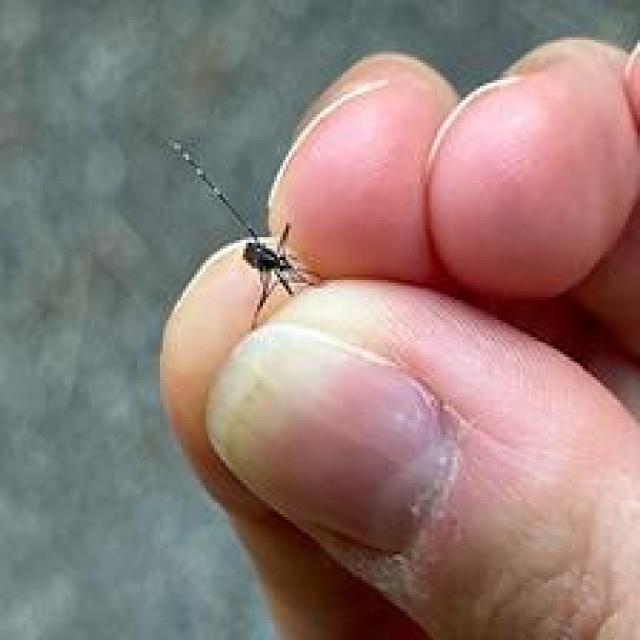Aedes albopictus: (162, 134, 318, 326)
